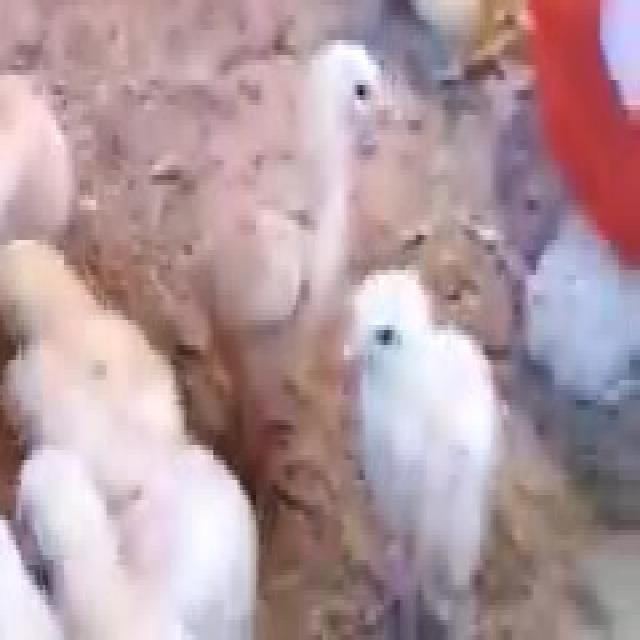poussin: (194, 36, 394, 440), (335, 268, 511, 614), (111, 443, 252, 640), (11, 455, 138, 640), (36, 332, 164, 473), (0, 252, 93, 419), (0, 88, 68, 270)
